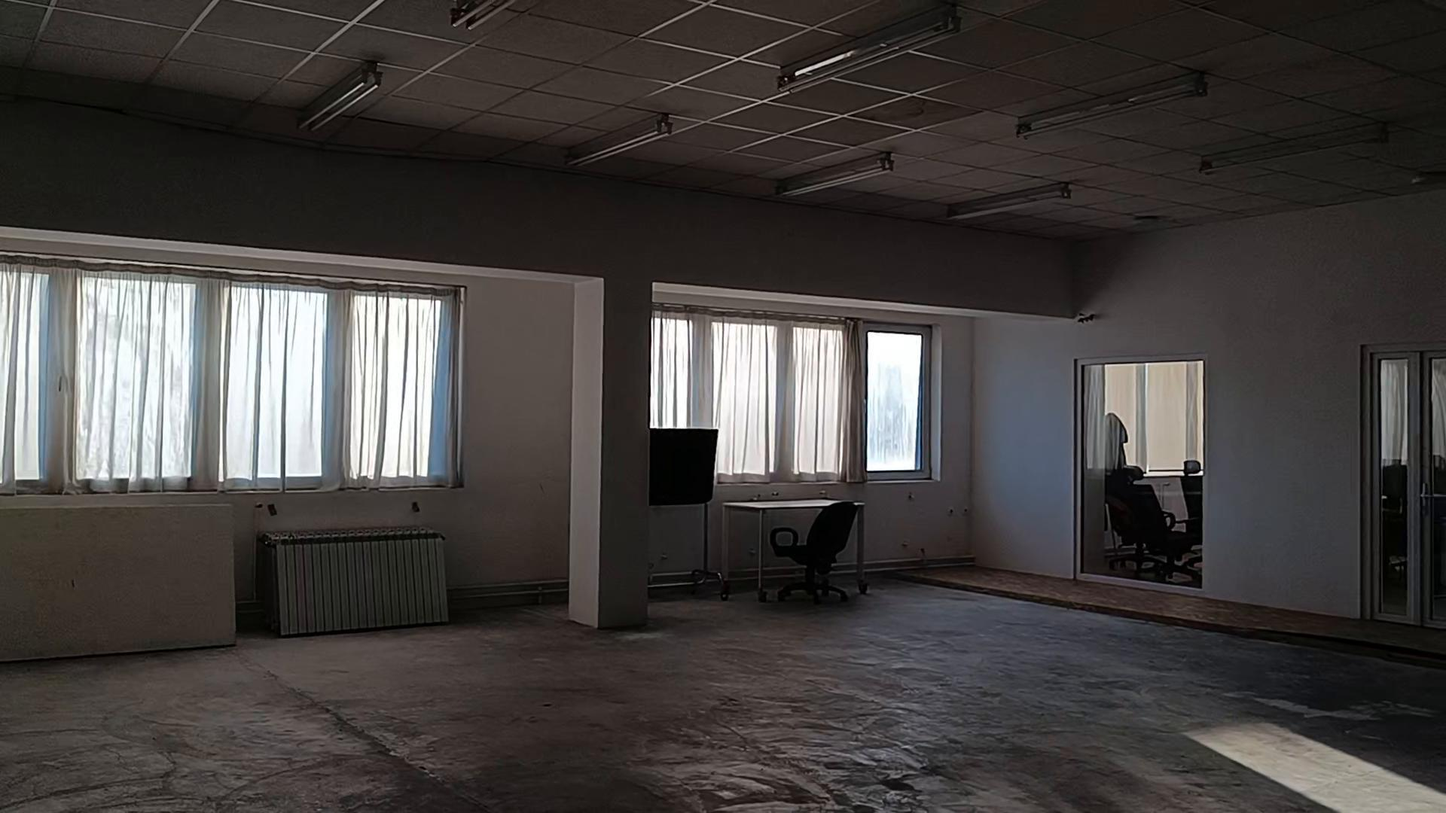ceiling: (0, 0, 1445, 234)
floor: (0, 582, 1445, 812)
wall: (5, 103, 1082, 629), (973, 196, 1445, 619), (466, 290, 575, 578), (866, 325, 972, 556)
